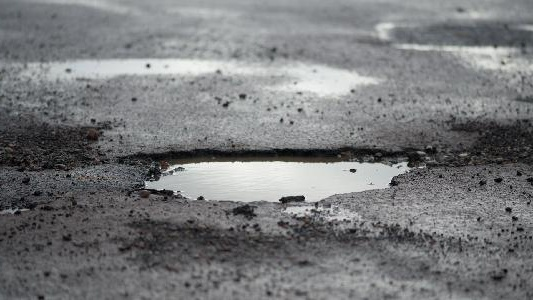pothole: (129, 143, 426, 205)
